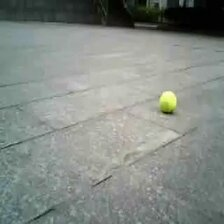tennis: (161, 91, 177, 112)
